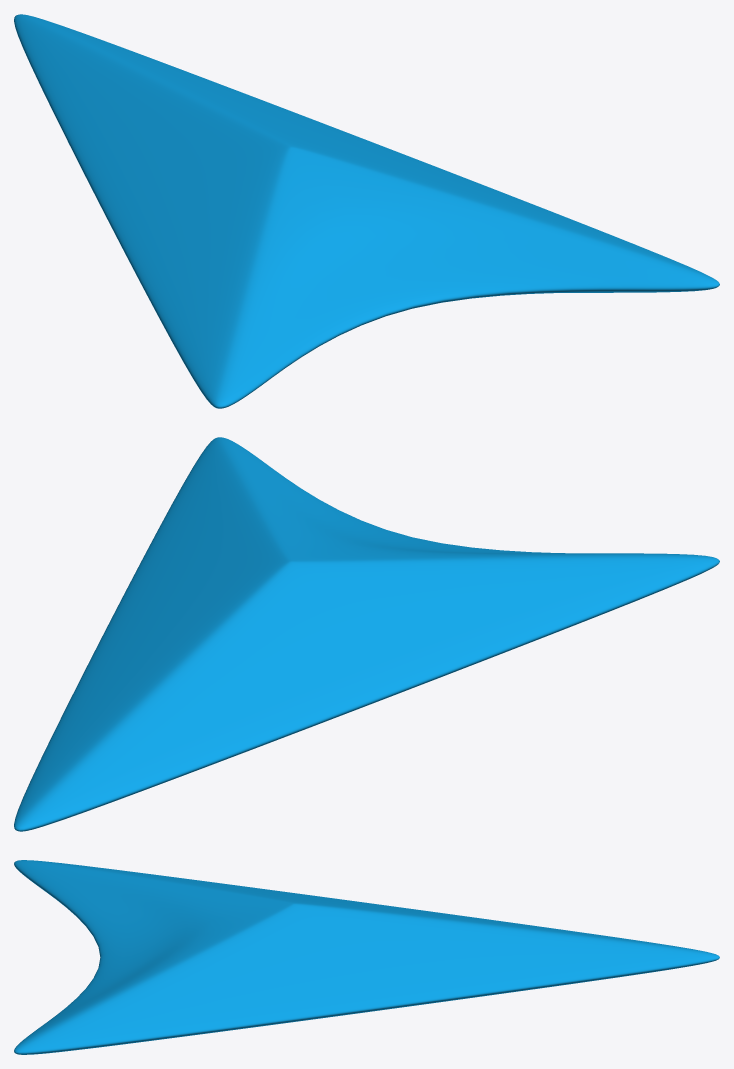
The model's file is NavigationArrow.glb.
The picture shows the model from 3 angles, top to bottom: view 1: azimuth 30°, elevation 25°; view 2: azimuth 150°, elevation 25°; view 3: azimuth 270°, elevation 25°; orthographic projection. The views are drawn at different scales.
Parts seen in each view (by area): view 1: NavigationArrow; view 2: NavigationArrow; view 3: NavigationArrow.
Boxes of the visible parts, box(x1,y1,x2,y2) form: NavigationArrow: box(14, 14, 719, 408); NavigationArrow: box(14, 437, 719, 831); NavigationArrow: box(14, 860, 719, 1054).
Size of the model in its own units: 1.39 by 0.3677 by 2.16.
